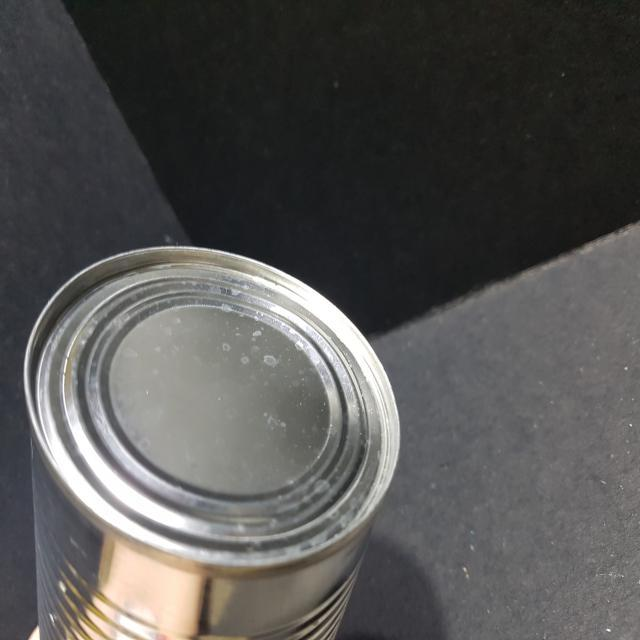metal-can: (0, 240, 403, 640)
